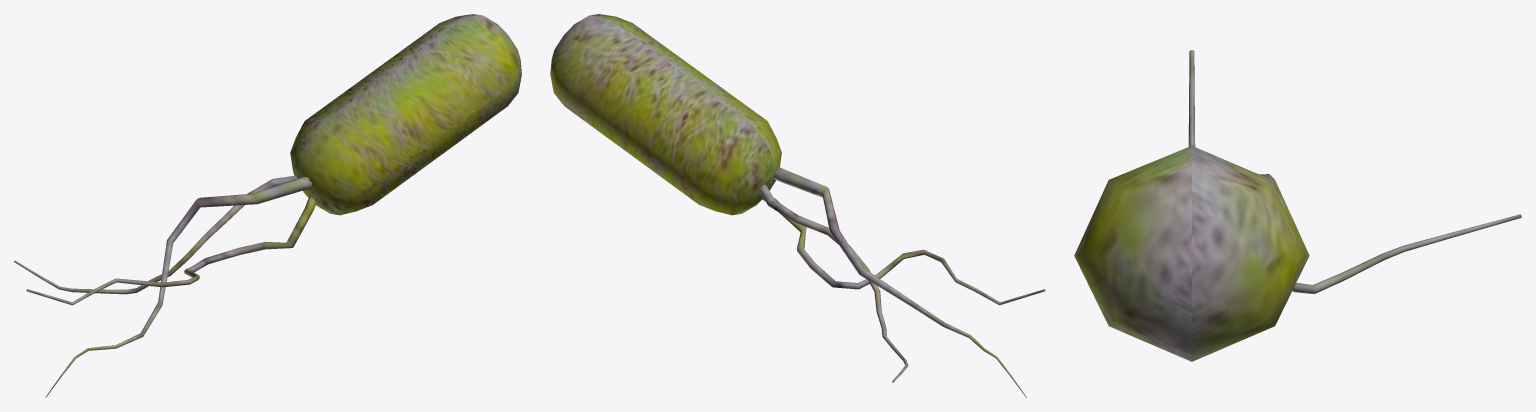
File: e_coli.FBX
The picture shows the model from 3 angles, left to right: view 1: azimuth 30°, elevation 25°; view 2: azimuth 150°, elevation 25°; view 3: azimuth 270°, elevation 25°; orthographic projection. The views are drawn at different scales.
Parts seen in each view (by area): view 1: e_coli; view 2: e_coli; view 3: e_coli.
Part boxes in pixels (<box>): e_coli: <box>14,14,521,397</box>; e_coli: <box>550,14,1045,397</box>; e_coli: <box>1074,50,1521,361</box>.
Size of the model in its own units: 136 by 73.39 by 53.94.
